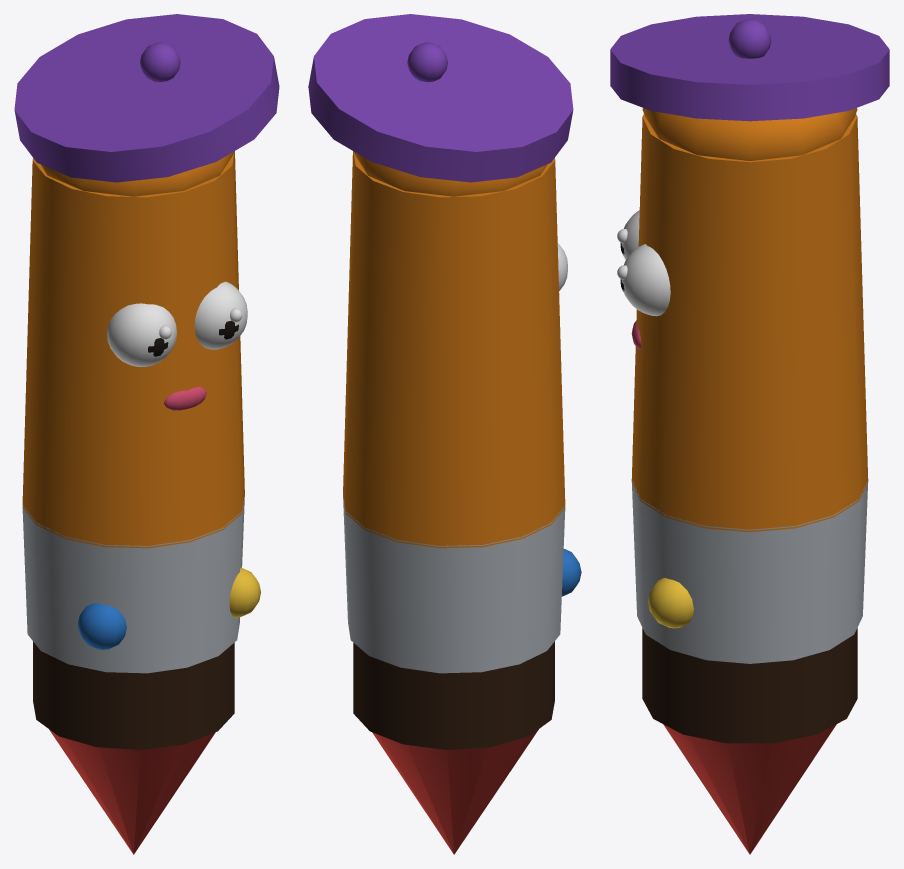
The model's file is helperBrush.glb.
The picture shows the model from 3 angles, left to right: view 1: azimuth 30°, elevation 25°; view 2: azimuth 150°, elevation 25°; view 3: azimuth 270°, elevation 25°; orthographic projection. The views are drawn at different scales.
Visible parts, largest first — view 1: part_000; view 2: part_000; view 3: part_000.
Boxes of the visible parts, x1,y1,x2,y2 form: part_000: (14, 14, 279, 854); part_000: (308, 14, 581, 854); part_000: (610, 14, 889, 854).
Size of the model in its own units: 0.5241 by 1.74 by 0.52.
